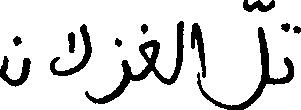X: (207, 0, 268, 109), (52, 19, 90, 105), (92, 33, 129, 108), (0, 31, 28, 91), (141, 19, 157, 84), (285, 18, 300, 87), (197, 18, 205, 102), (179, 16, 182, 77)
